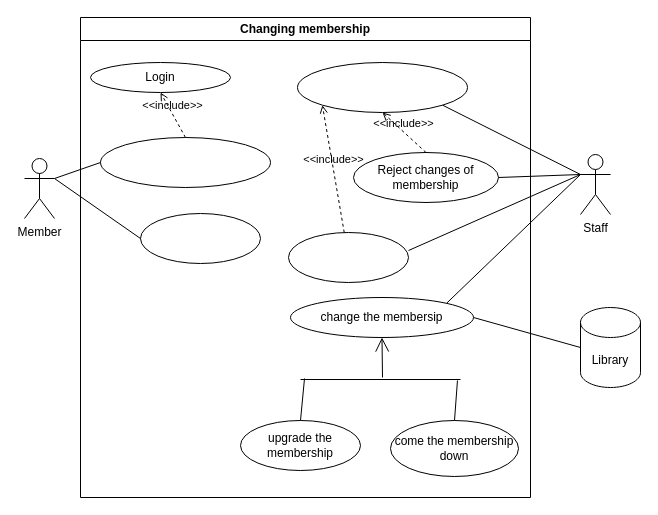
This 658x515 diagram has some shape labels left out. The shapes that lost their labels are listed below. From the top down, each one's box as (x1, y1, x2, y2) in pixels, then its label:
(296, 62, 468, 112): Inspect the membership condition
(100, 136, 270, 188): request to upgrade the membership
(140, 212, 260, 264): Show the result of request
(288, 232, 408, 282): Accept changes of membership
